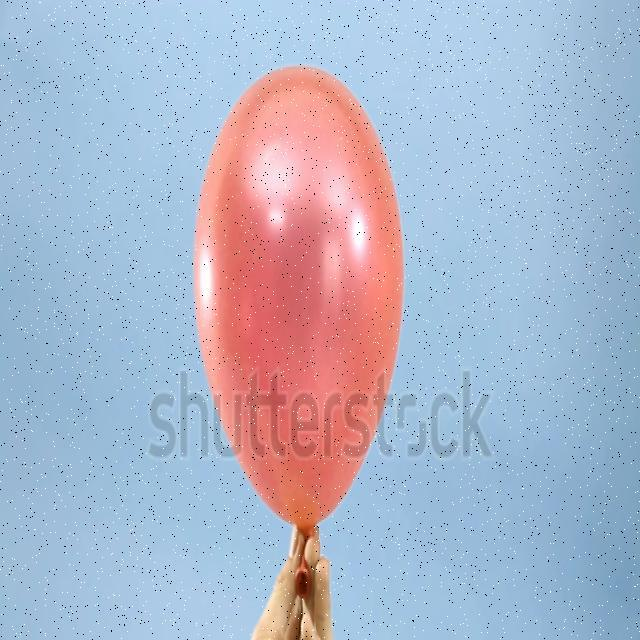red: (192, 63, 405, 541)
